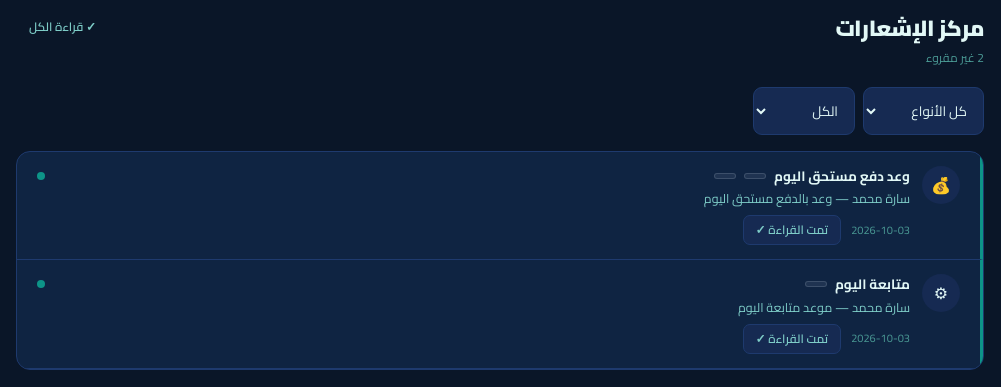
Test case: NotificationsPage — "تمت القراءة" hides non-actionable notifications after reading › a payment-promise (non-actionable) notification also gets the "تمت القراءة" button and hides the same way
The image size is (1001, 387).
Click the button "تمت القراءة ✓" below "سارة محمد — وعد بالدفع مستحق اليوم". click: (792, 230)
box: [742,215,841,245]
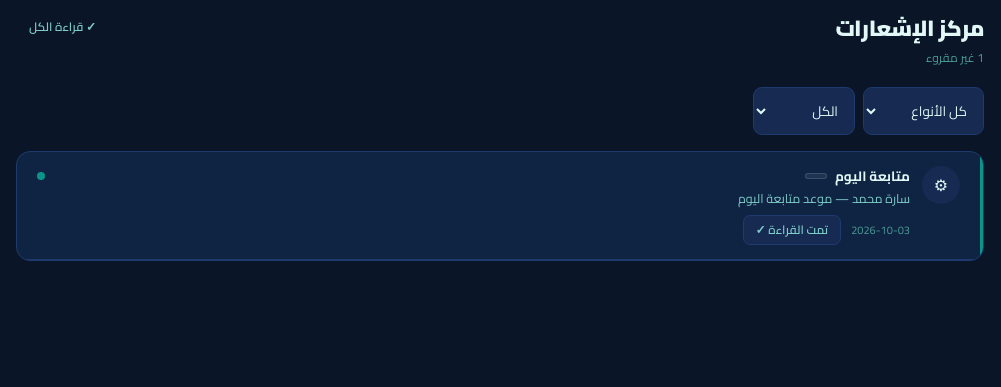
Expected: the text "وعد دفع مستحق اليوم" is gone
